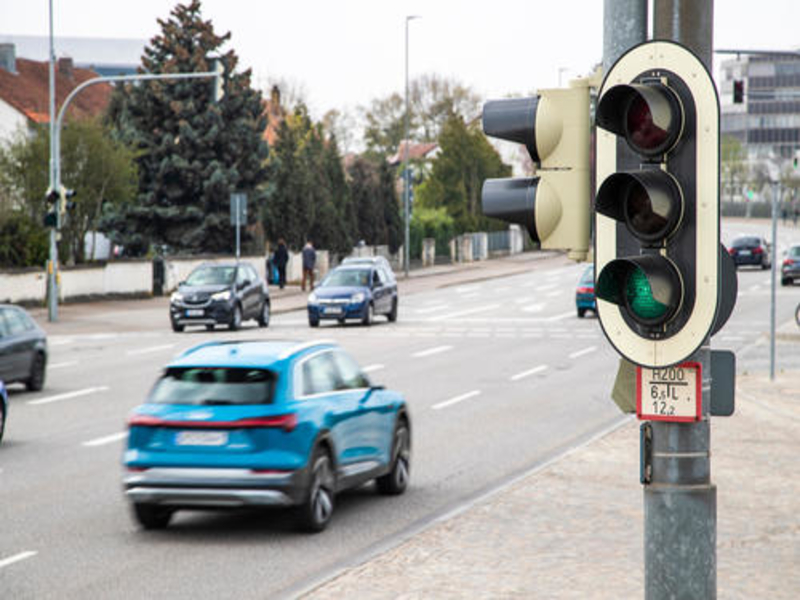traffic_light: (595, 38, 722, 366), (479, 77, 590, 251), (61, 188, 77, 216)
